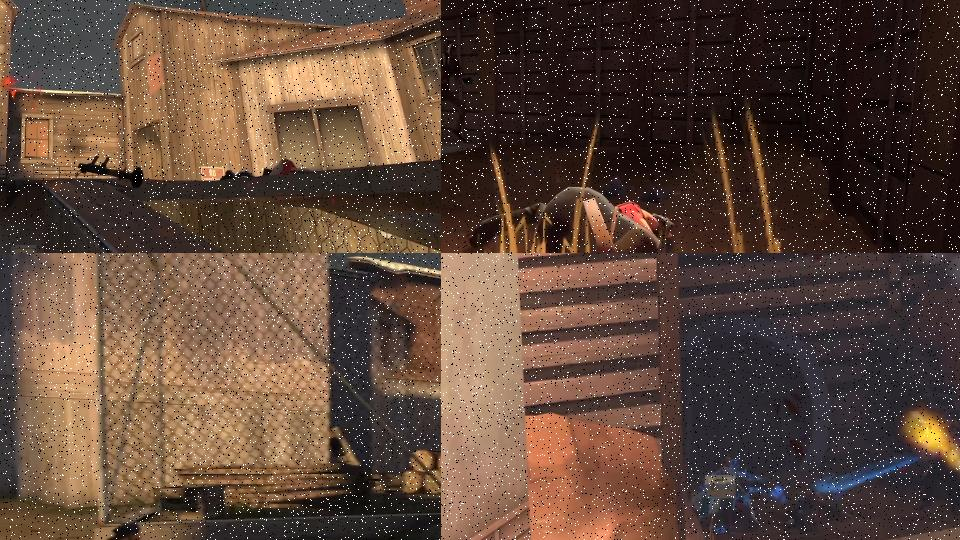Enemy: (469, 185, 697, 253), (441, 39, 474, 144)
